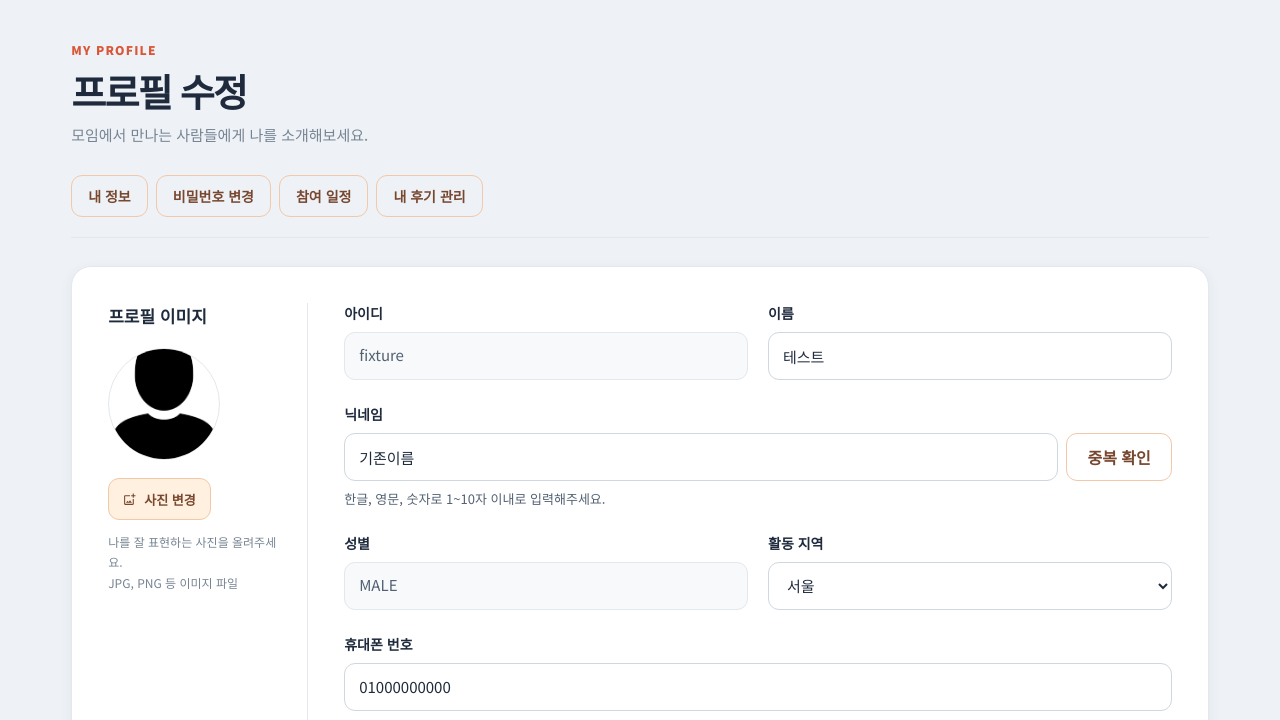
Test: restoring edited profile fields to their original values does not save
Replace the text in the field labelled "닉네임" with "바뀐이름" at (701, 457), box [344,433,1058,481]
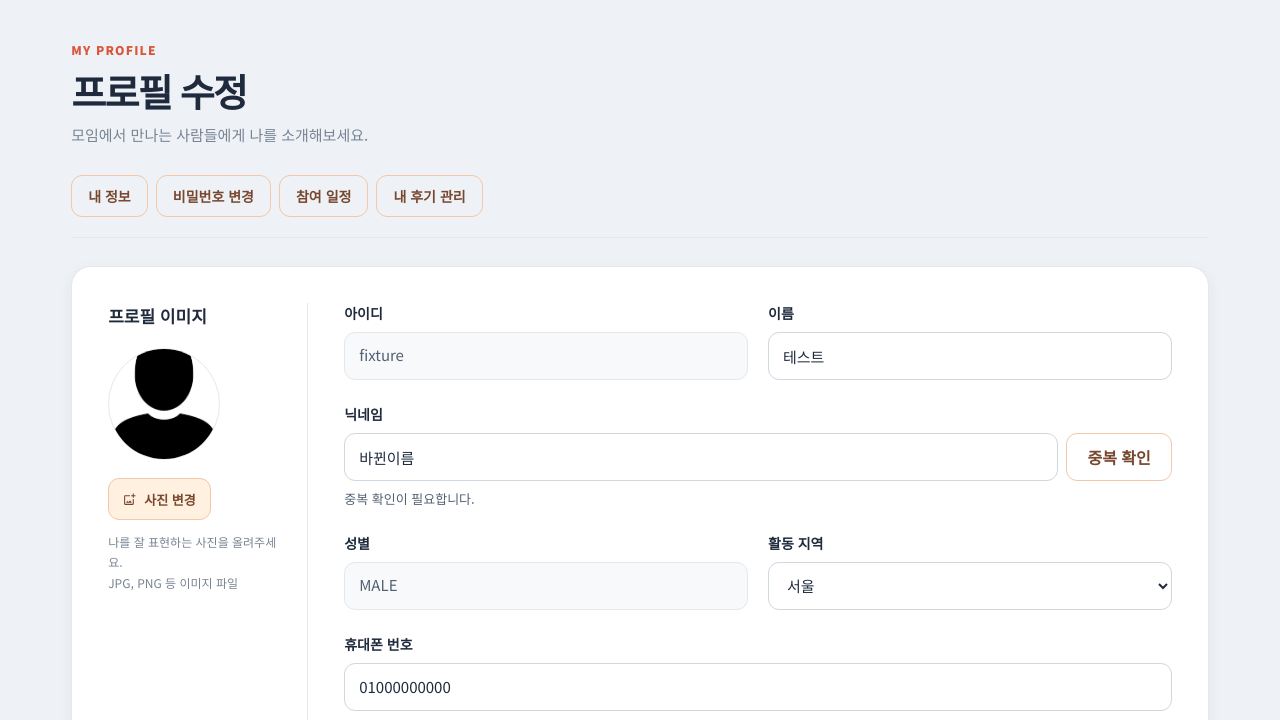
Replace the text in the field labelled "닉네임" with "기존이름" at (701, 457), box [344,433,1058,481]
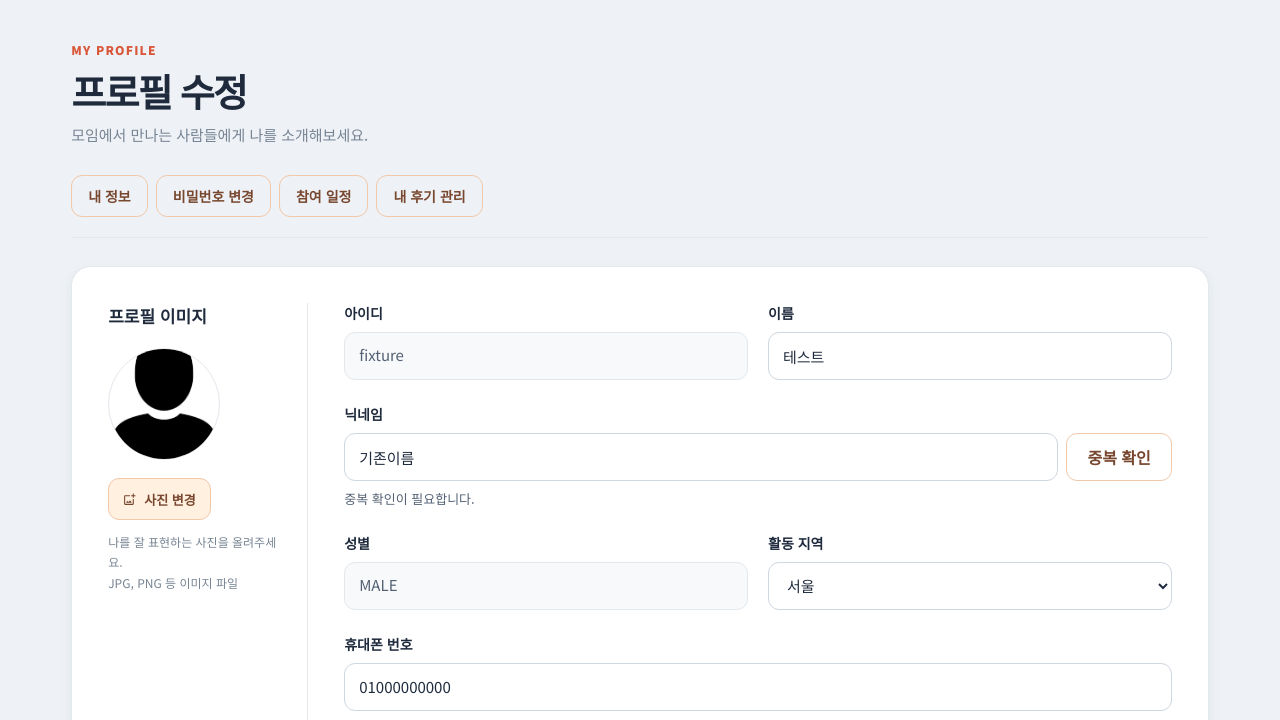
Select "부산" in the dropdown labelled "활동 지역" at (970, 586), box [768,562,1172,610]
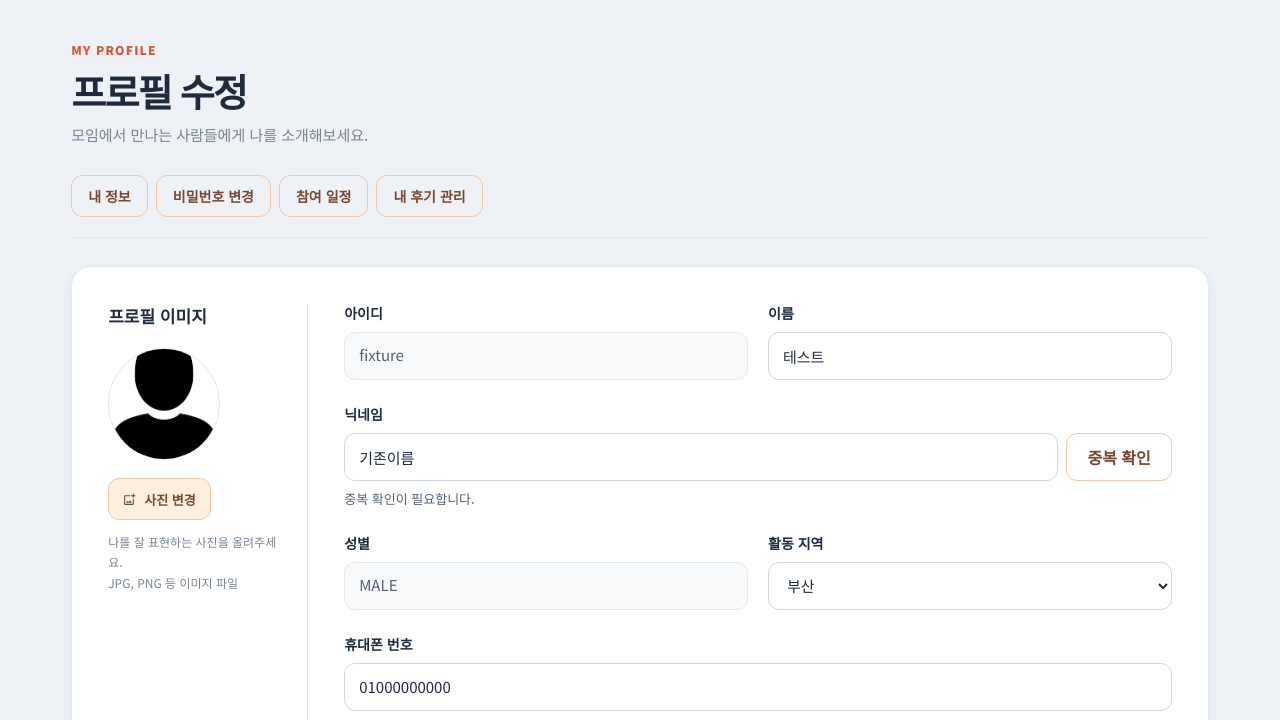
Select "서울" in the dropdown labelled "활동 지역" at (970, 586), box [768,562,1172,610]
(page scrolled)
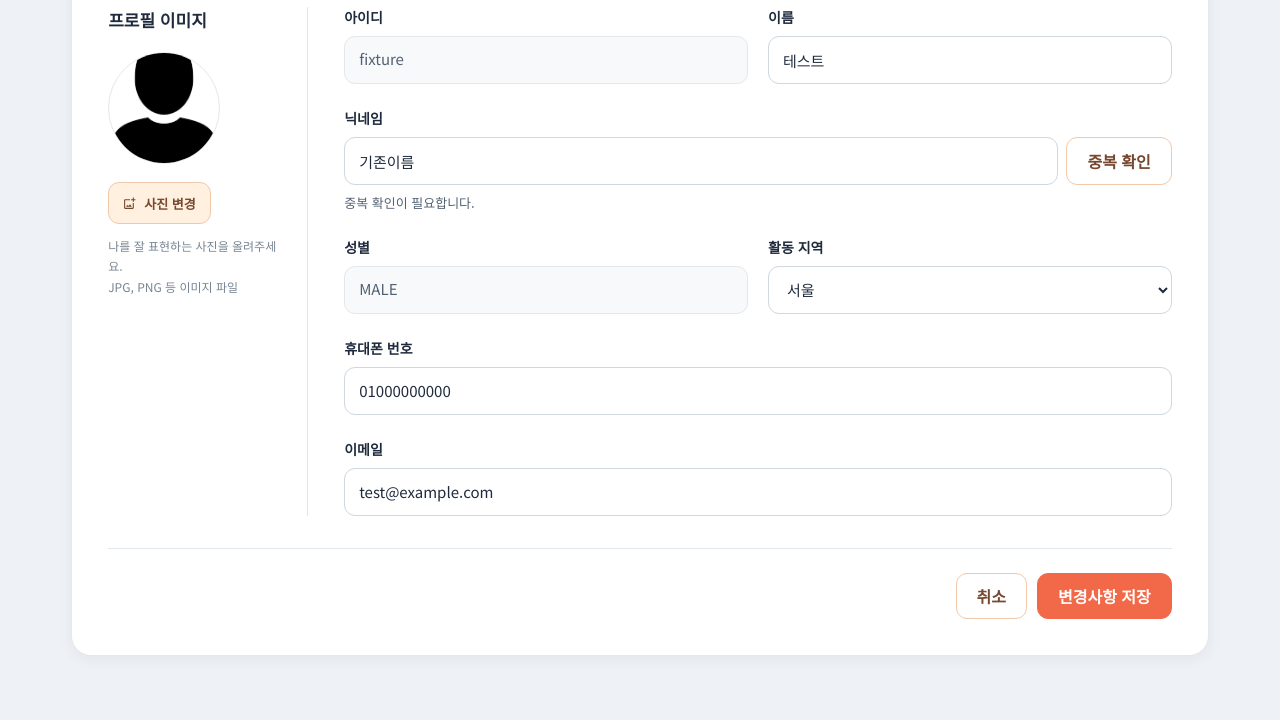
Click the button "변경사항 저장" at (1104, 596), box [1037,573,1172,619]
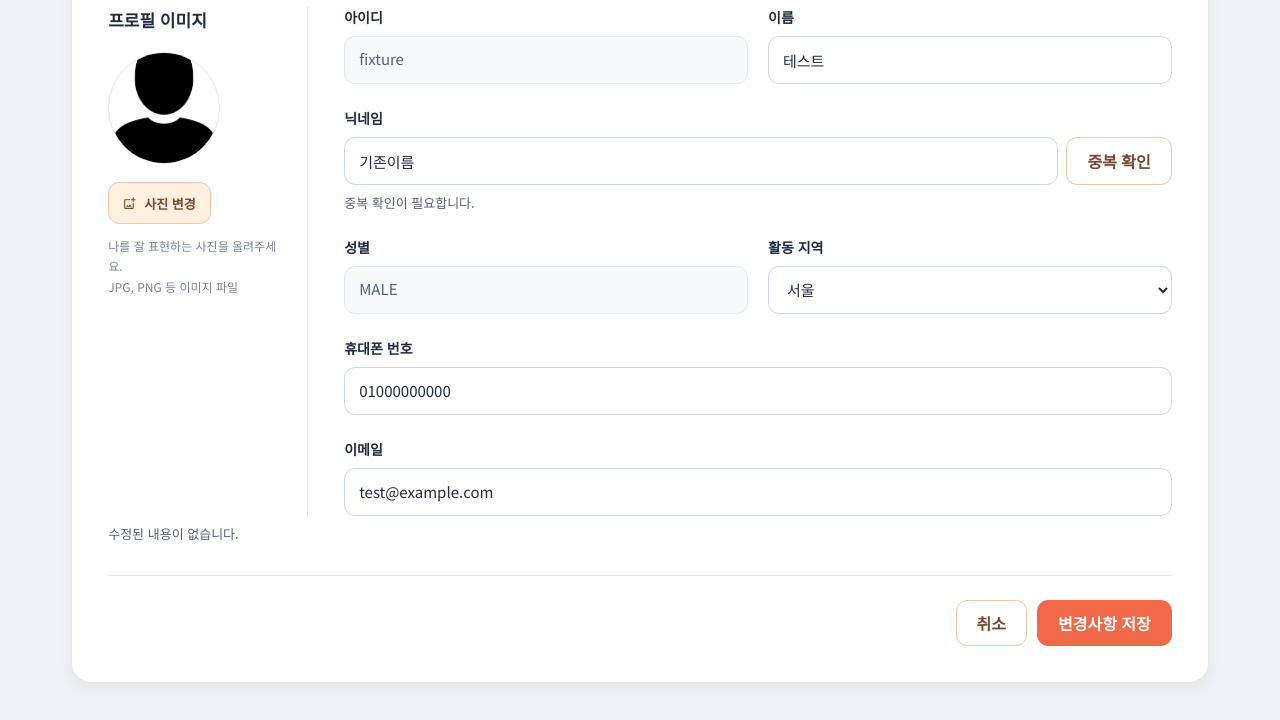
Result: the message shows "수정된 내용이 없습니다" at [108,524,239,543]
